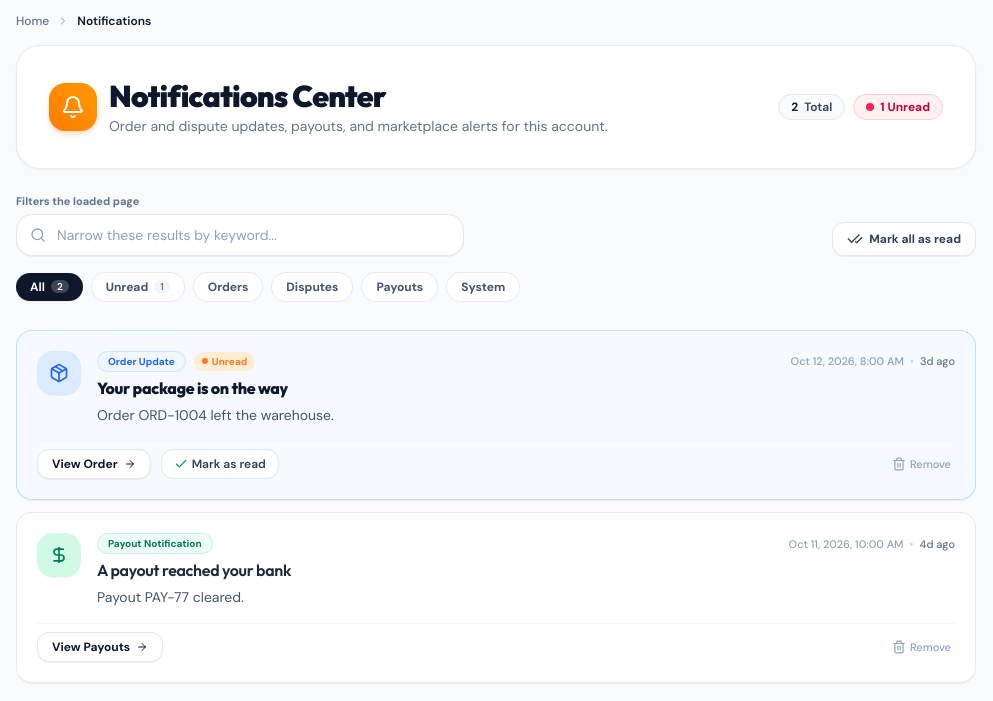
NotificationsPage › filters the loaded page by keyword and says so on its own label
Check: the heading "A payout reached your bank" is shown, box x1=97 y1=560 x2=291 y2=580
In the field labelled "Filters the loaded page": (240, 234) x1=16 y1=214 x2=464 y2=256, type "warehouse"
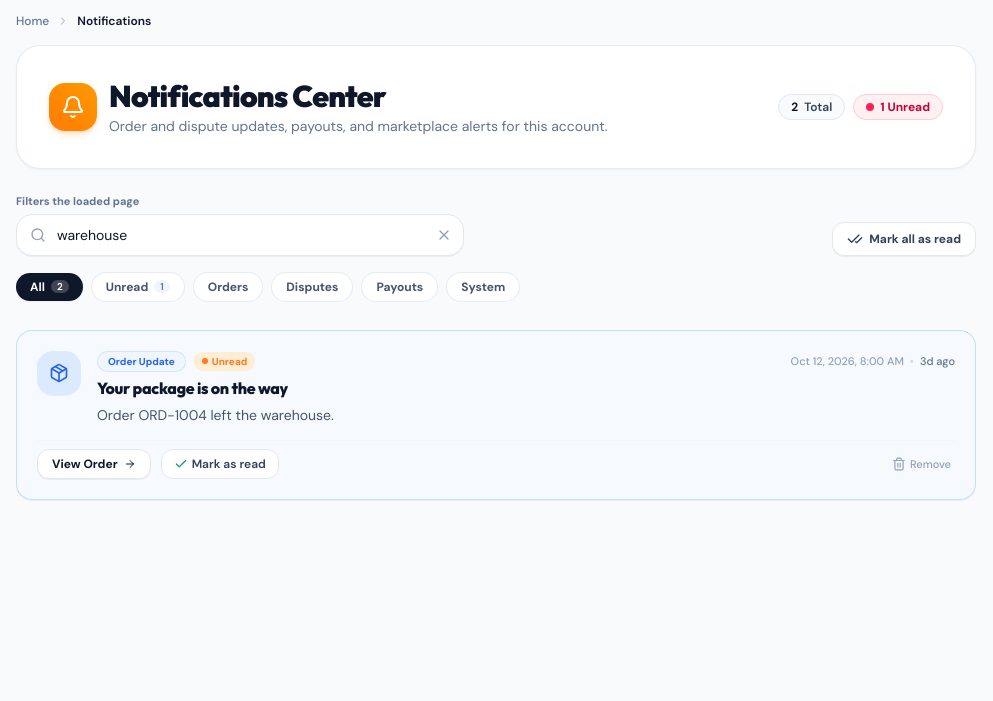
Check: the heading "Your package is on the way" is shown, box x1=97 y1=378 x2=288 y2=398
Check: the button "A payout reached your bank" is gone
Check: the element with test id "notice-mine-2" is gone
# A keyword that misses the loaded page is reported as a miss on the page, never as an empty tray.
Replace the text in the field labelled "Filters the loaded page" with "teleporter": (240, 234) x1=16 y1=214 x2=464 y2=256
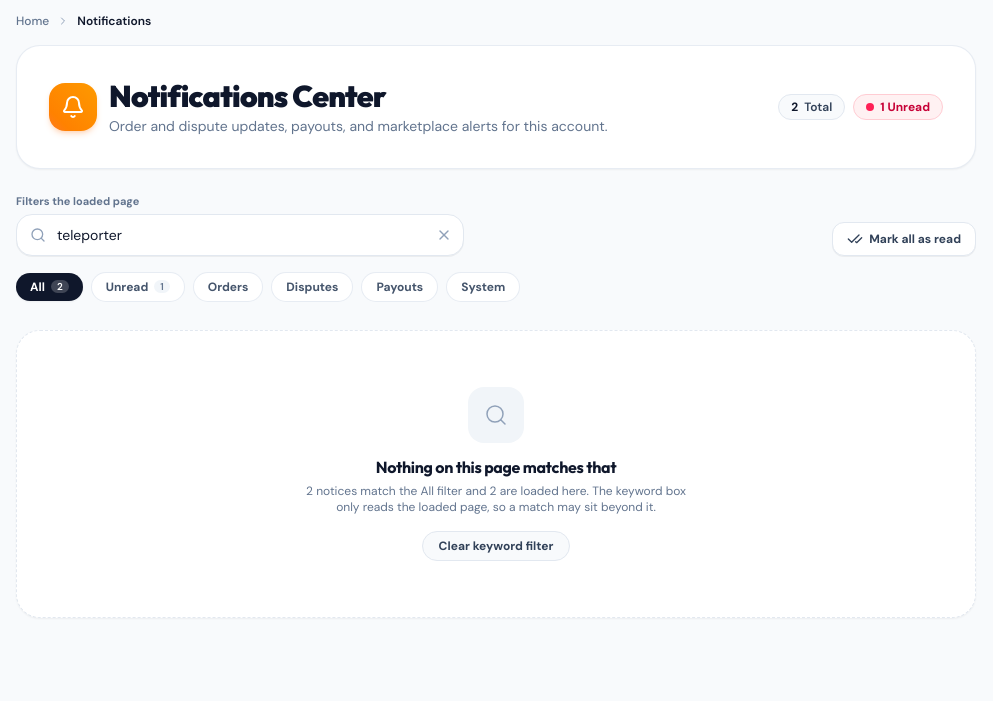
Check: the text "keyword box only reads the loaded page" is shown, box x1=336 y1=482 x2=686 y2=514
Check: the heading "Nothing on this page matches that" is shown, box x1=376 y1=454 x2=616 y2=478
Click the button with test id "reset-page-filter": (496, 546) x1=422 y1=530 x2=570 y2=560
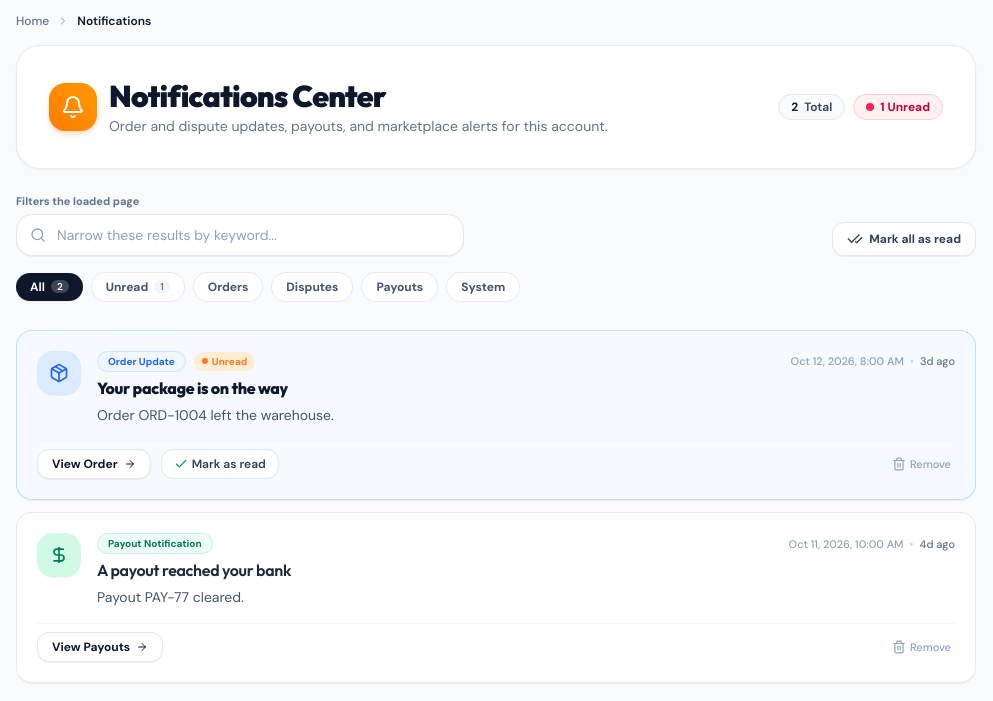
Check: the heading "Your package is on the way" is shown, box x1=97 y1=378 x2=288 y2=398
Check: the heading "A payout reached your bank" is shown, box x1=97 y1=560 x2=291 y2=580
